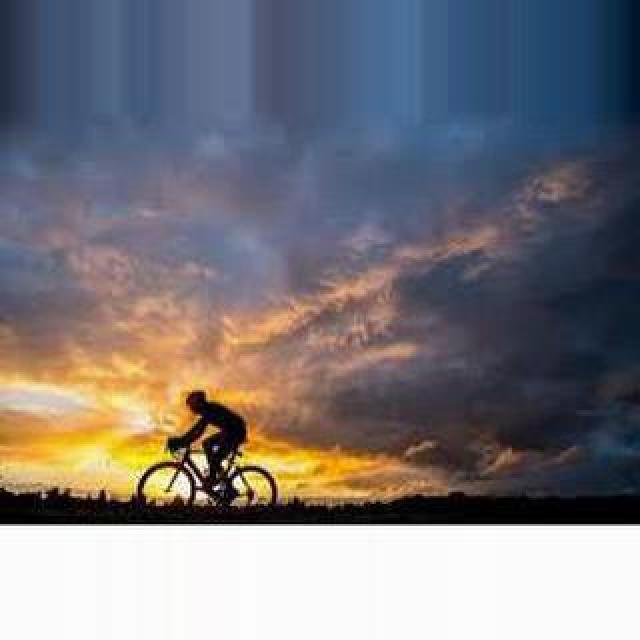MC-Bike: (168, 390, 246, 496)
Person: (133, 438, 279, 520)
